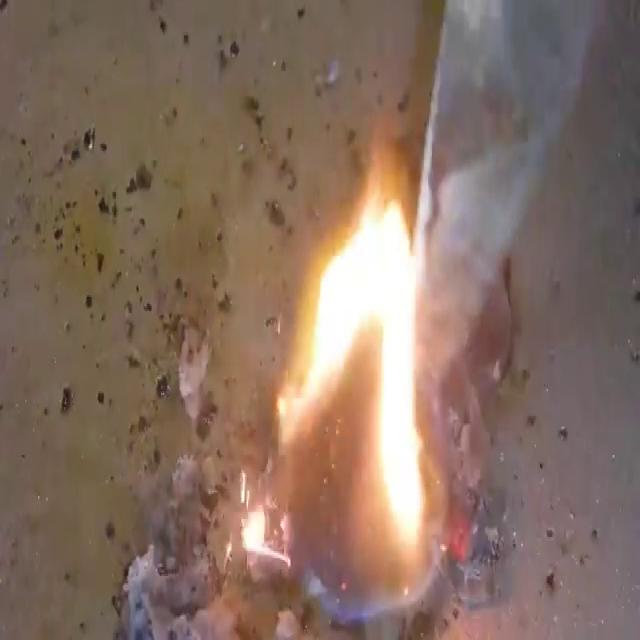Fire: (270, 123, 447, 612)
